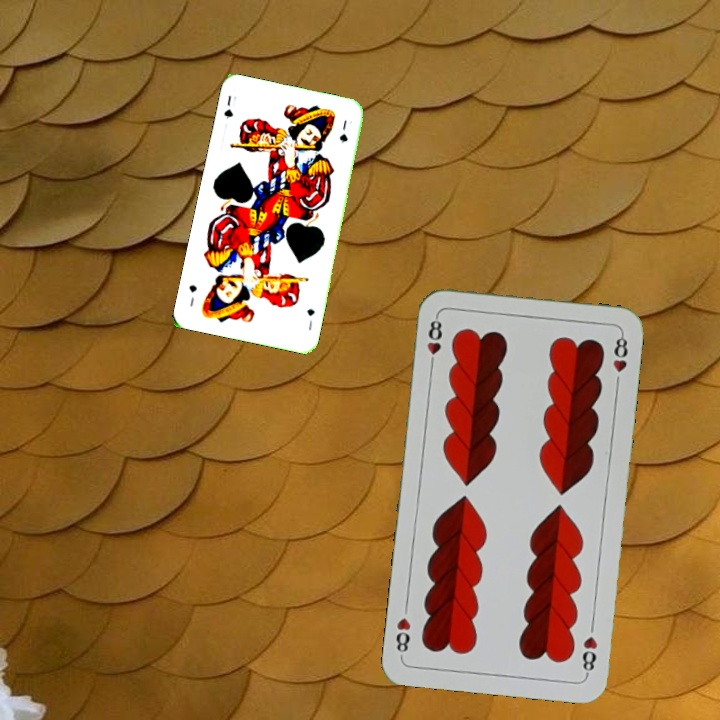GU: (220, 91, 239, 122), (303, 305, 317, 333)
H8: (423, 312, 445, 371), (578, 632, 600, 678)
